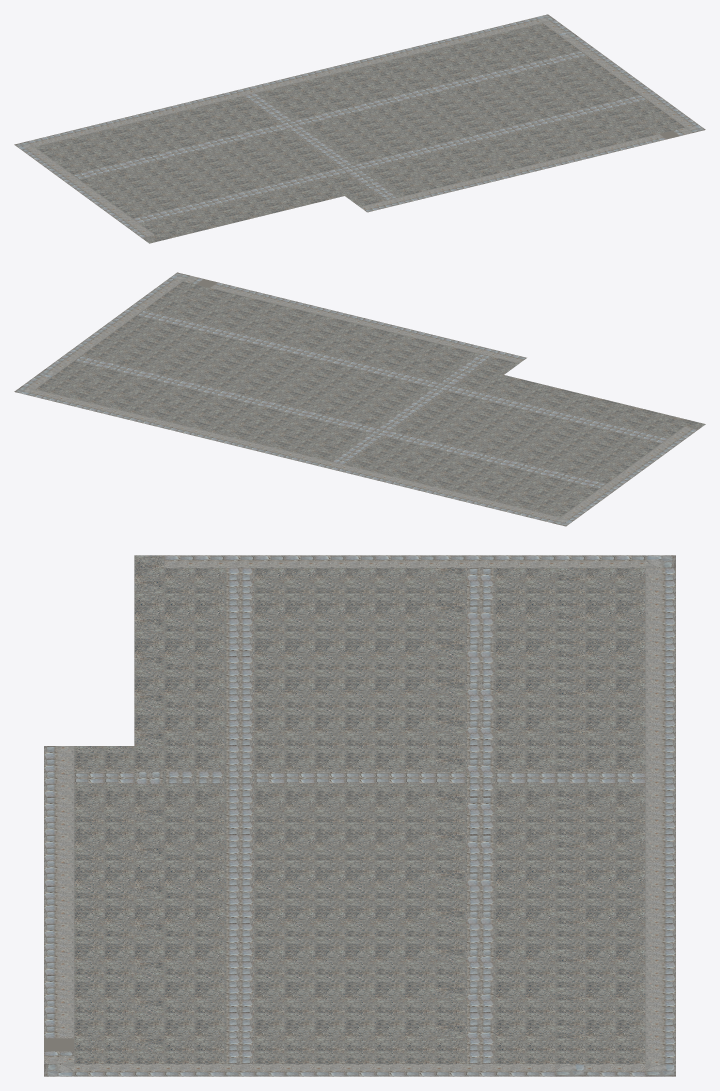
The model's file is Ground.fbx.
The picture shows the model from 3 angles, top to bottom: view 1: azimuth 30°, elevation 25°; view 2: azimuth 150°, elevation 25°; view 3: azimuth 270°, elevation 25°; orthographic projection. The views are drawn at different scales.
Visible parts, largest first — view 1: Plane.220; view 2: Plane.220; view 3: Plane.220.
Part boxes in pixels (bbox=[...]): Plane.220: bbox=[14, 14, 705, 243]; Plane.220: bbox=[14, 272, 705, 526]; Plane.220: bbox=[44, 555, 675, 1076].
Size of the model in its own units: 41 by 3.42e-06 by 21.
